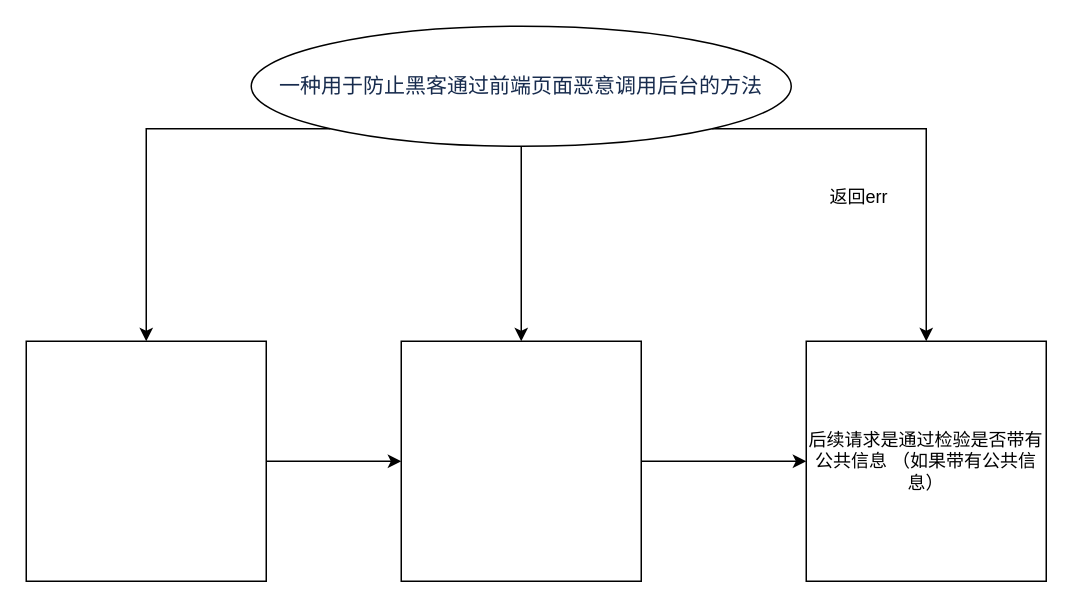
Image size: 1073x608. Some labels were removed from this diagram. Here are the shapes that lost their labels. From the top down, the centre of each, then its label:
(145,460): 建立nodejs后台中转机制
(520,460): 在首次请求时添加公共信息
